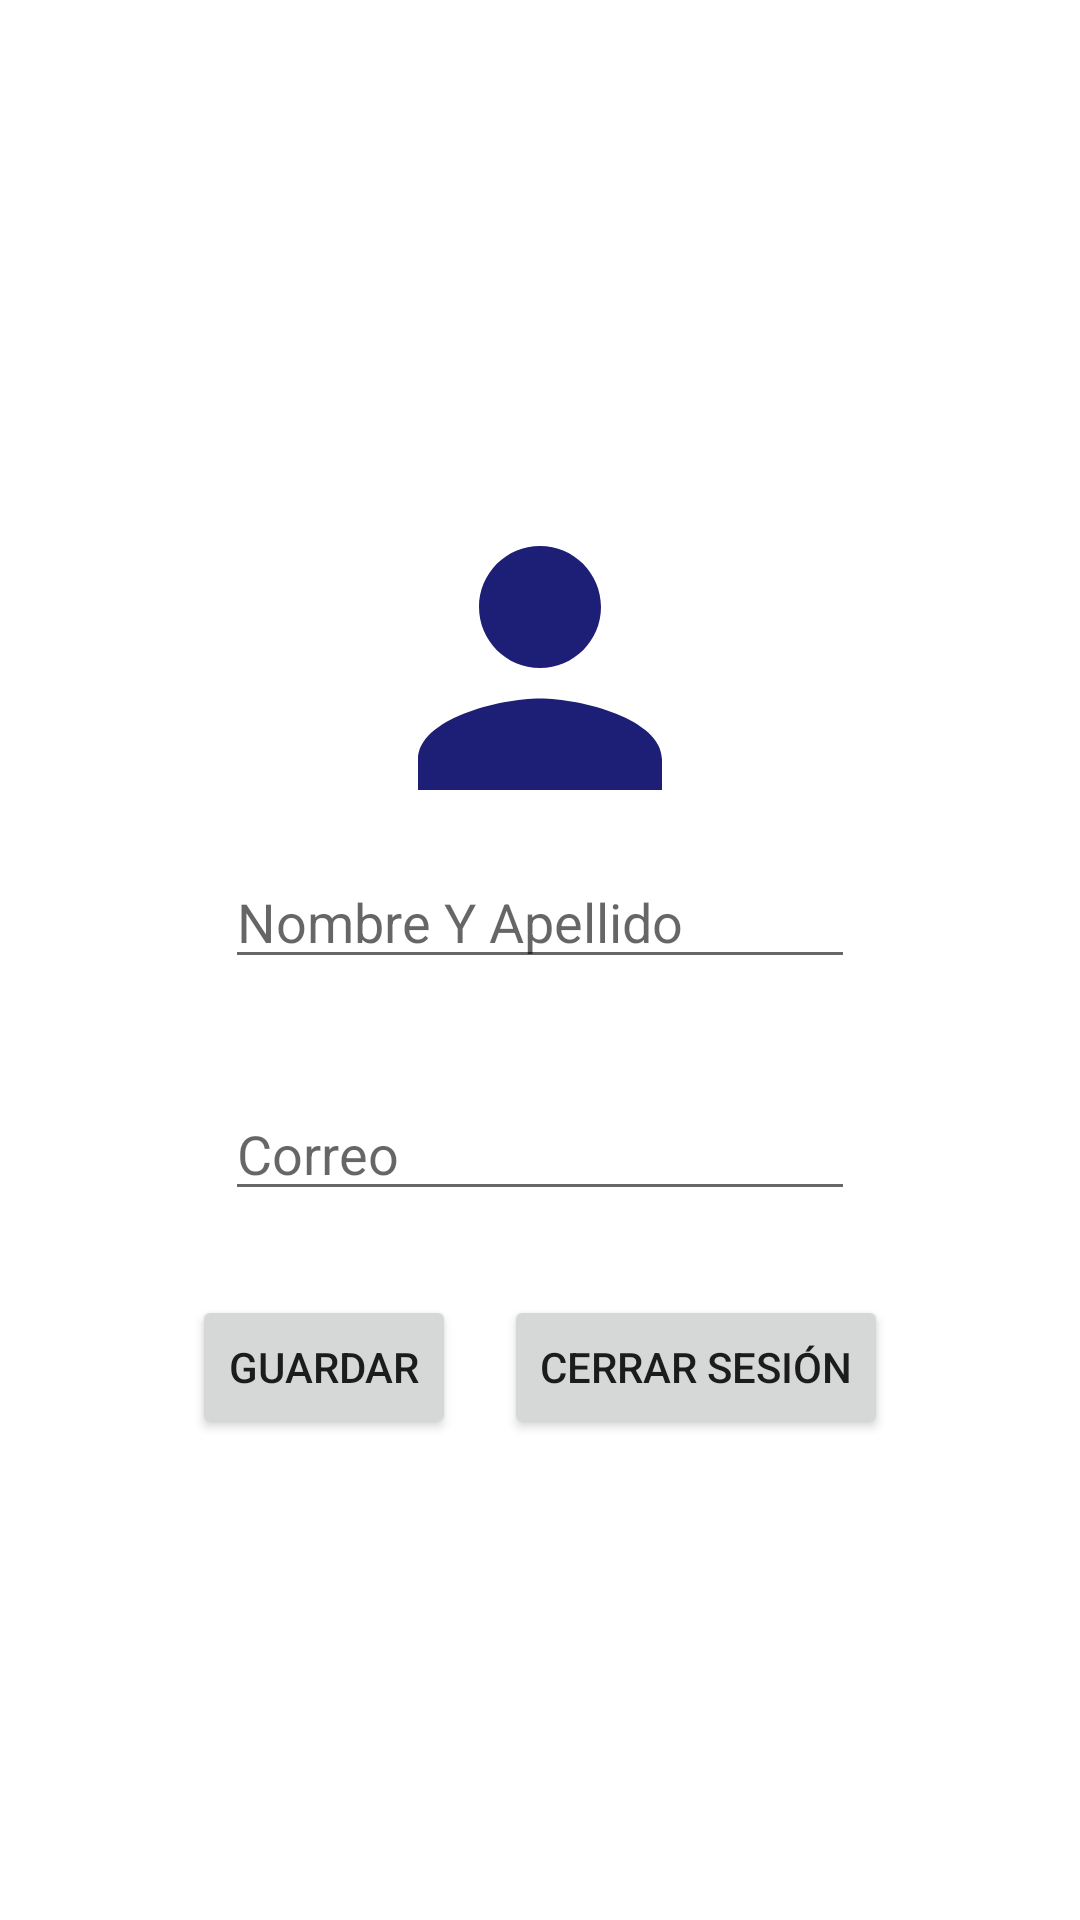

Where to tap for icons on this 1080 x 1920 app screen, as point (x, y):
person: point (540, 668)
